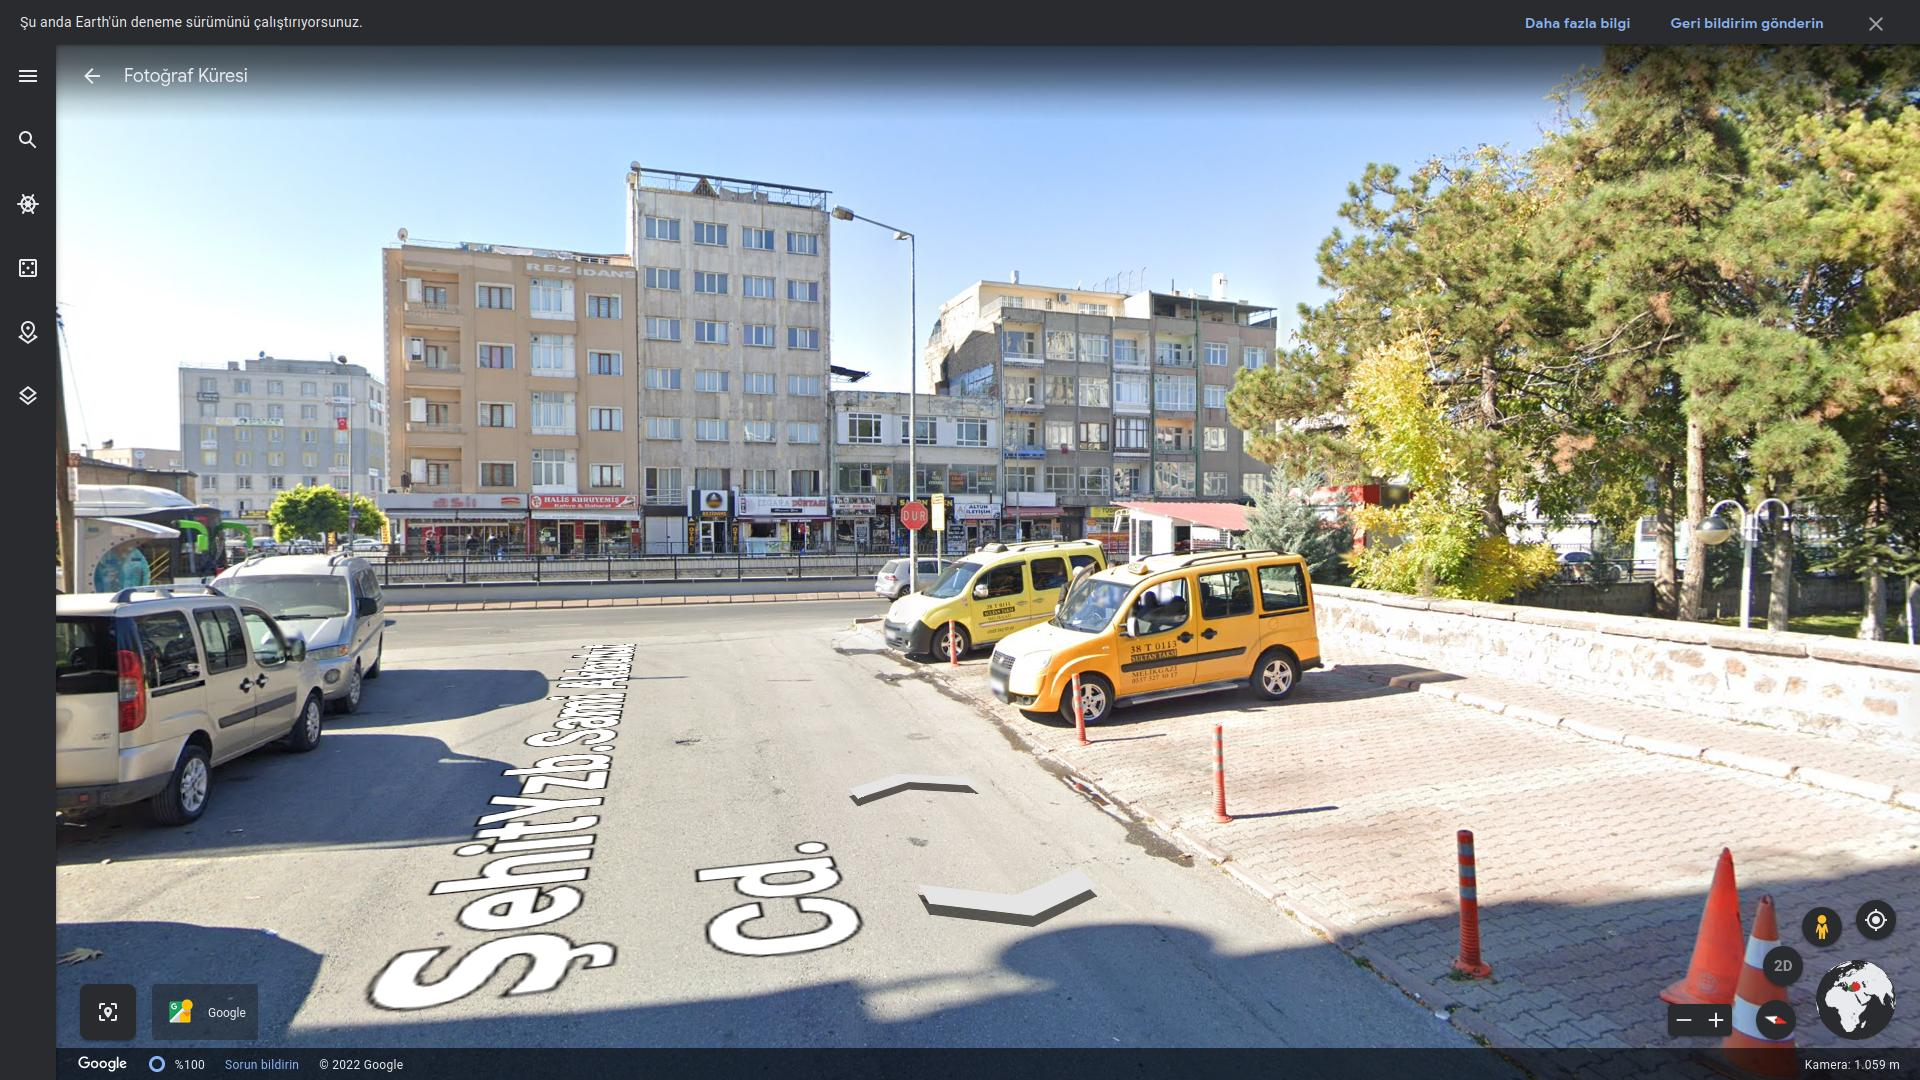stop: (899, 501, 928, 530)
